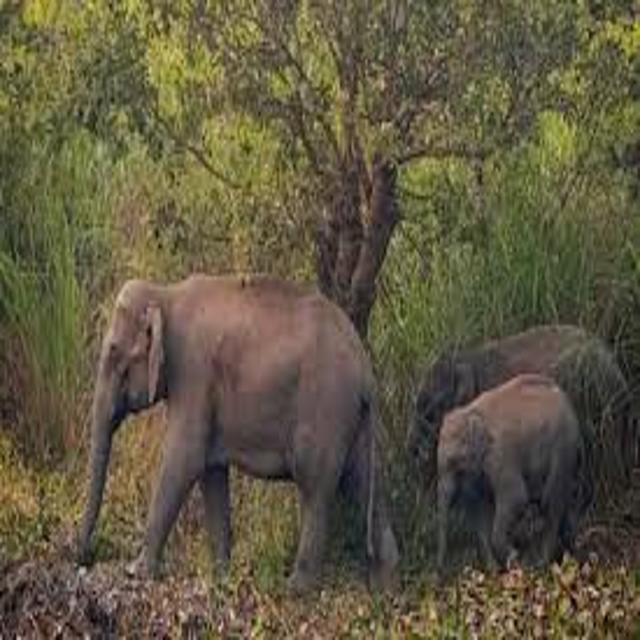Elephant: (61, 210, 406, 616), (419, 372, 615, 590)
